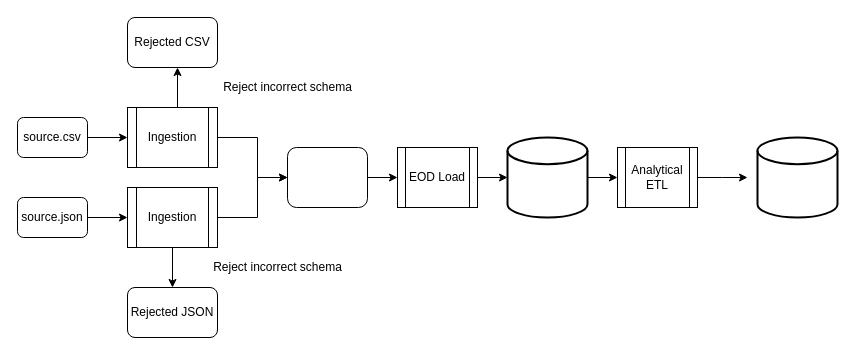
Some shapes in this 856 by 355 pixel diagram are drawn without their labels. Each missing label, with the box of its shape:
Accepted CSV/JSON: (286, 146, 368, 208)
EOD Trade Quote: (506, 136, 588, 218)
quote-trade-analytical: (756, 136, 838, 218)
